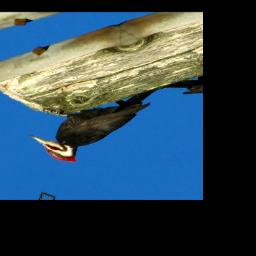Woodpecker: (19, 79, 186, 172)
